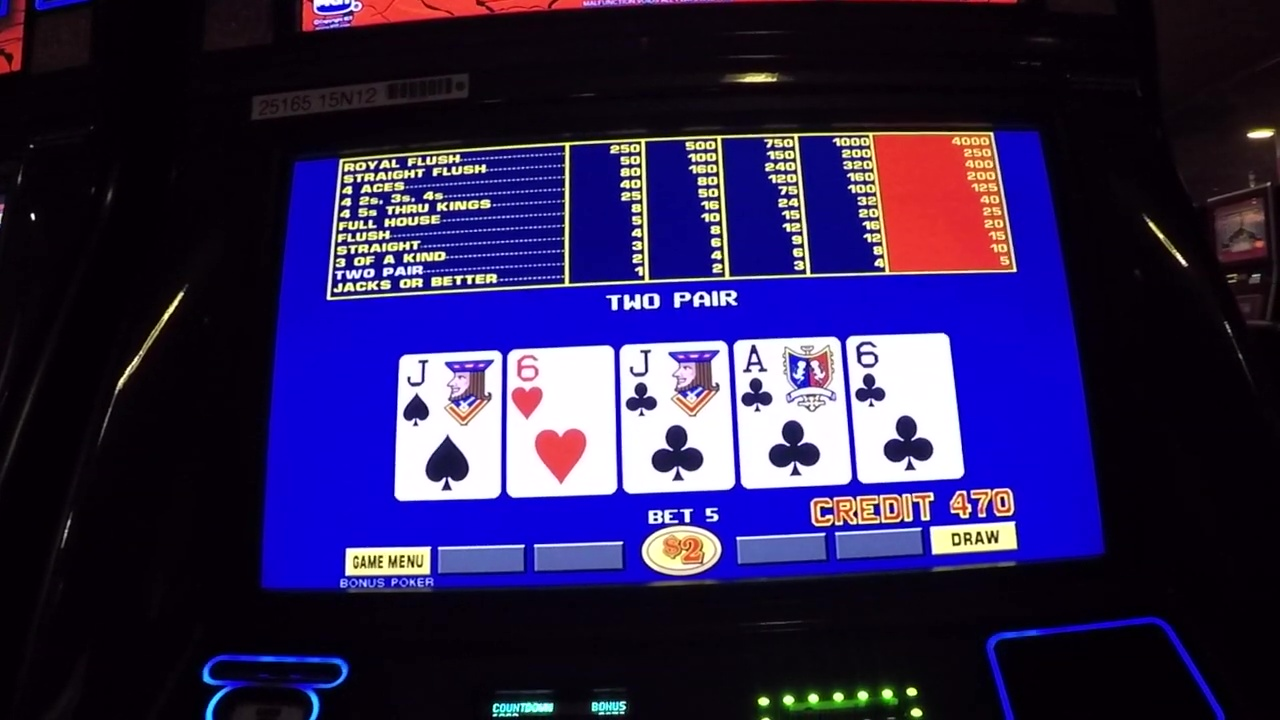C6: (852, 337, 946, 414)
CA: (738, 340, 841, 419)
CJ: (622, 346, 728, 423)
H6: (507, 348, 613, 422)
SJ: (400, 352, 498, 429)
